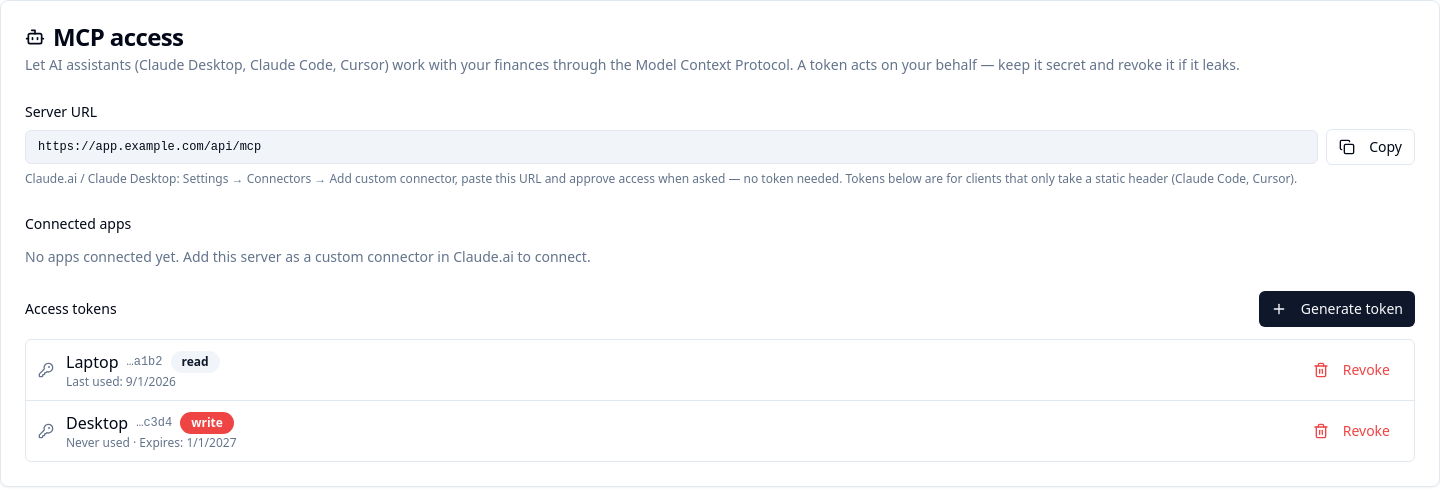
it: McpTokensSettings › cancelling the confirmation keeps the token
The image size is (1440, 504).
Click the button with aria-label "Revoke Laptop". click: (1351, 370)
box: x1=1301 y1=352 x2=1402 y2=388
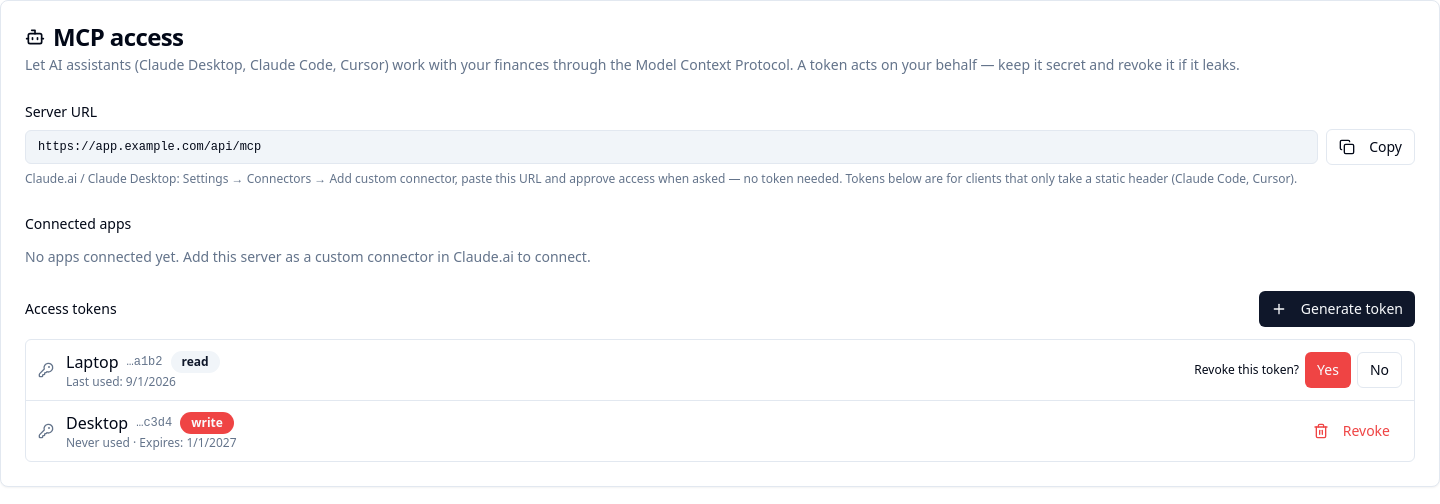
Click the button "No". click: (1379, 370)
box: x1=1357 y1=352 x2=1402 y2=388
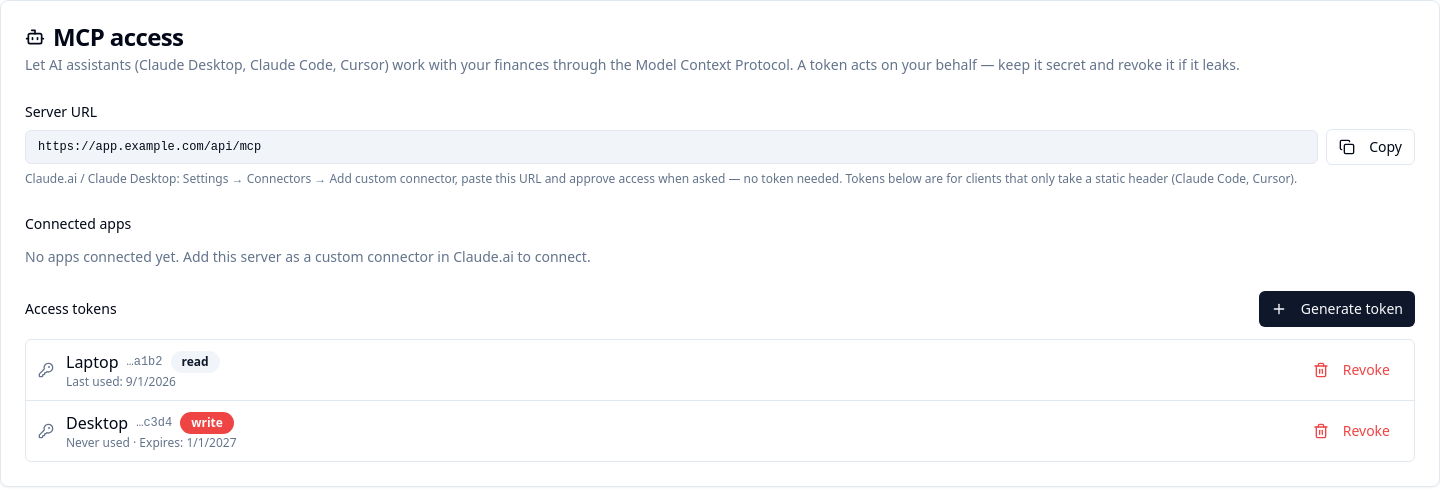
Expected: the text "Laptop" is shown, x1=66 y1=350 x2=118 y2=374
Now the text "Revoke this token?" is gone
